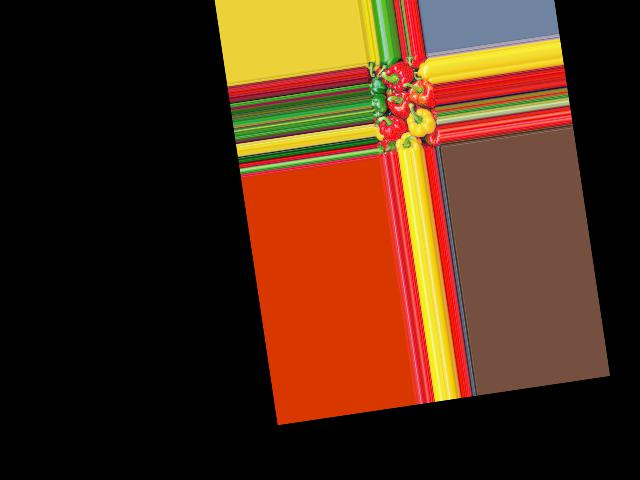bell_pepper: (416, 61, 431, 79)
